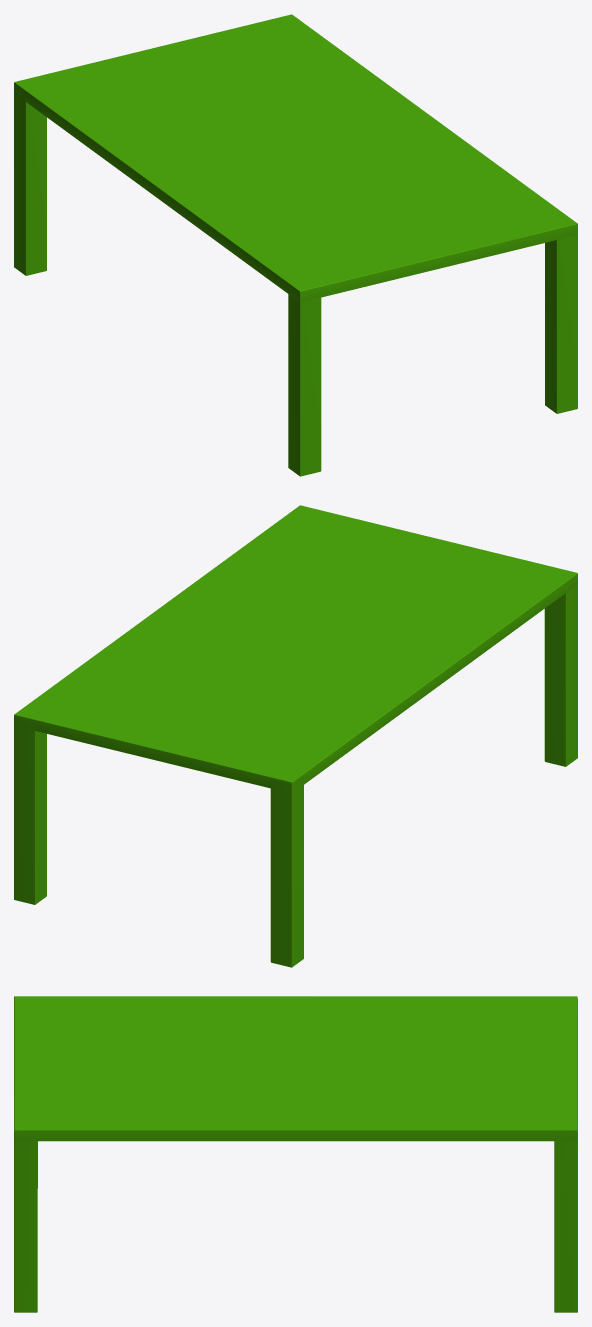
File: Table.fbx
3 renders of one model, top to bottom at view 1: azimuth 30°, elevation 25°; view 2: azimuth 150°, elevation 25°; view 3: azimuth 270°, elevation 25°, orthographic.
Parts seen in each view (by area): view 1: pCube1, pCube5, pCube2, pCube4; view 2: pCube1, pCube4, pCube3, pCube5; view 3: pCube1, pCube3, pCube2.
Boxes of the visible parts, x1,y1,x2,y2 form: pCube1: [14, 14, 577, 302]; pCube5: [288, 294, 321, 476]; pCube2: [545, 227, 577, 413]; pCube4: [14, 84, 46, 275]; pCube1: [14, 505, 577, 788]; pCube4: [270, 776, 303, 967]; pCube3: [14, 716, 46, 904]; pCube5: [544, 584, 577, 766]; pCube1: [14, 996, 577, 1141]; pCube3: [554, 1122, 577, 1312]; pCube2: [14, 1132, 37, 1312].
Bounding box in the file's own units: 125 × 79.97 × 223.
